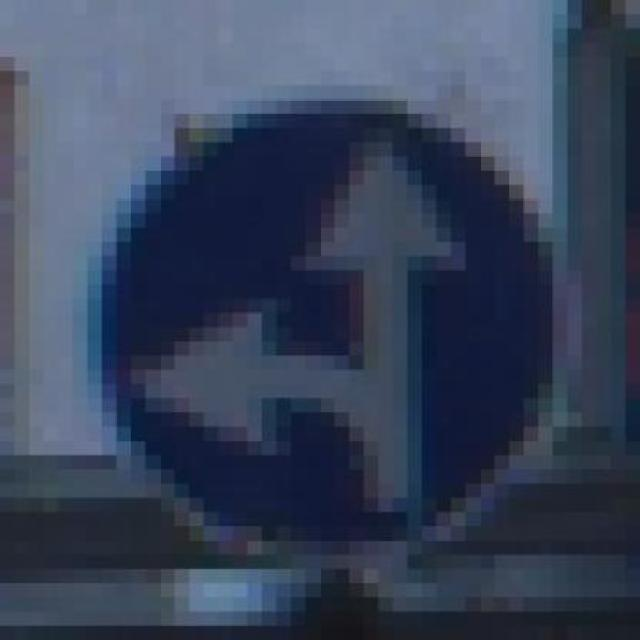Go straight or turn left: (90, 87, 585, 571)
